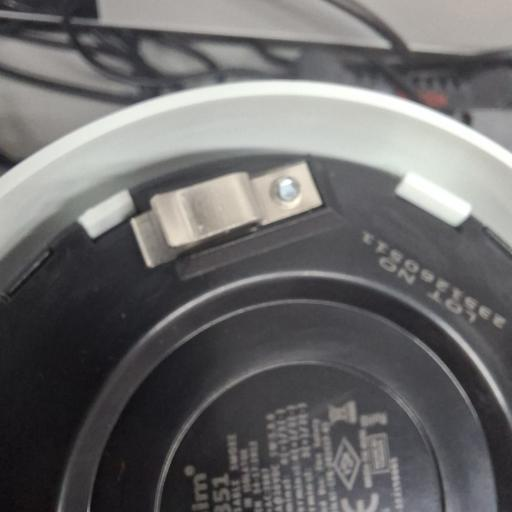yayli: (126, 159, 325, 269)
